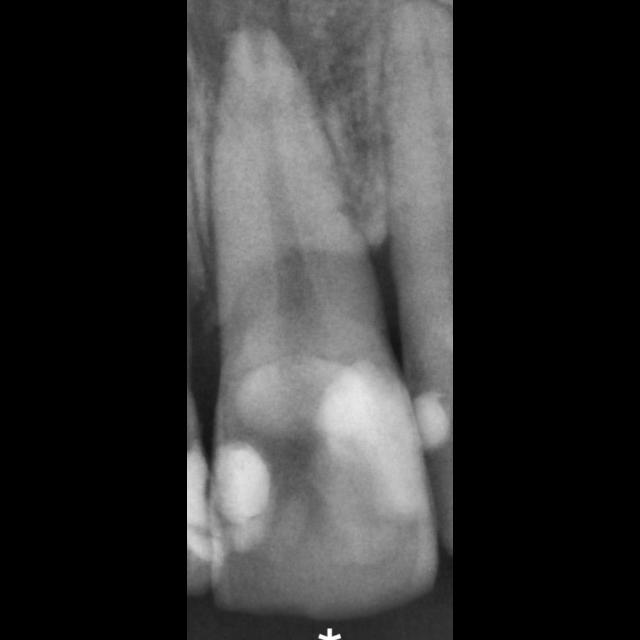tooth: (206, 24, 440, 620)
